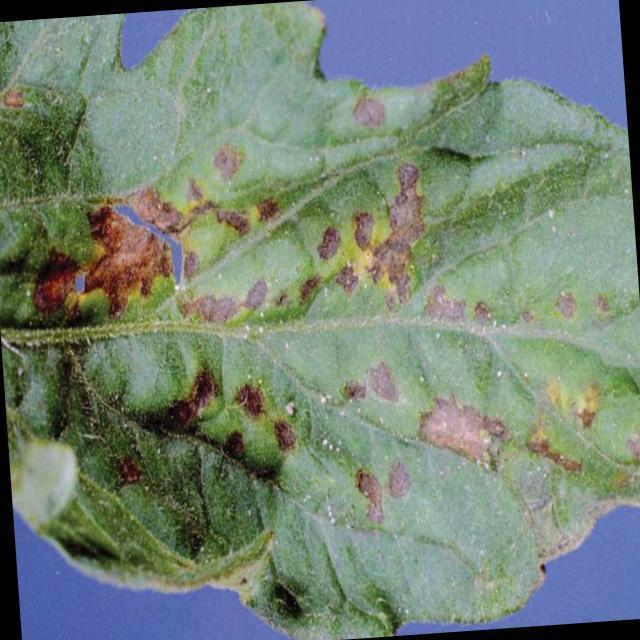Bacterial Spot: (23, 78, 640, 553)
